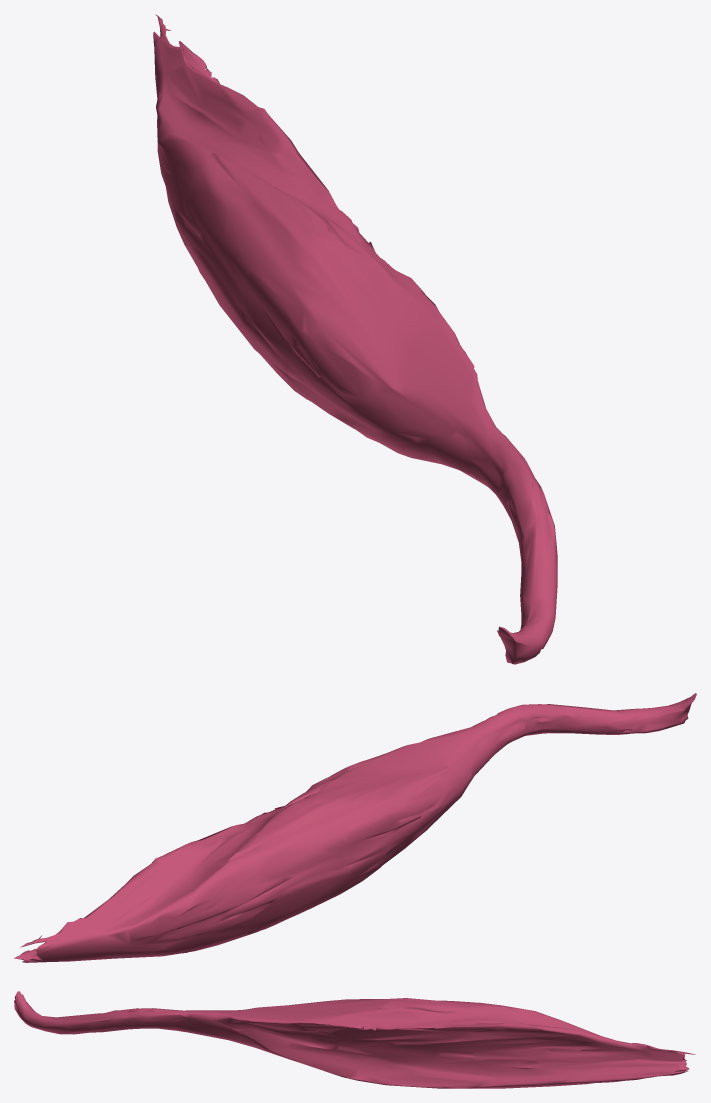
3 renders of one model, top to bottom at view 1: azimuth 30°, elevation 25°; view 2: azimuth 150°, elevation 25°; view 3: azimuth 270°, elevation 25°, orthographic. The views are drawn at different scales.
Visible parts, largest first — view 1: 左侧肱二头肌短头; view 2: 左侧肱二头肌短头; view 3: 左侧肱二头肌短头.
Part boxes in pixels (box(x1,y1,x2,y2)): 左侧肱二头肌短头: box(153, 14, 557, 664); 左侧肱二头肌短头: box(14, 693, 696, 962); 左侧肱二头肌短头: box(14, 991, 695, 1088).
Bounding box in the file's own units: 0.1201 × 0.0507 × 0.4023.
